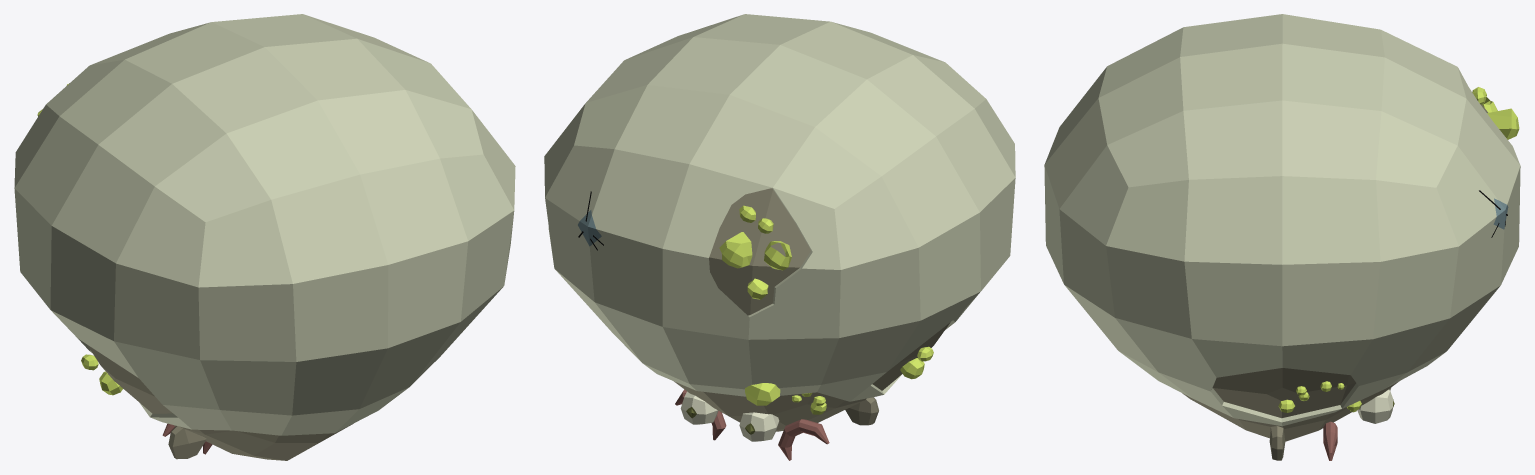
The model's file is Gabbar Animation Dash.fbx.
3 renders of one model, left to right at view 1: azimuth 30°, elevation 25°; view 2: azimuth 150°, elevation 25°; view 3: azimuth 270°, elevation 25°, orthographic. The views are drawn at different scales.
Visible parts, largest first — view 1: Dash Body; view 2: Dash Body; view 3: Dash Body.
Part boxes in pixels (x1,y1,x2,y2): Dash Body: (14,14,515,460); Dash Body: (544,14,1015,460); Dash Body: (1044,14,1520,460).
Bounding box in the file's own units: 75.18 × 69.68 × 75.29.
